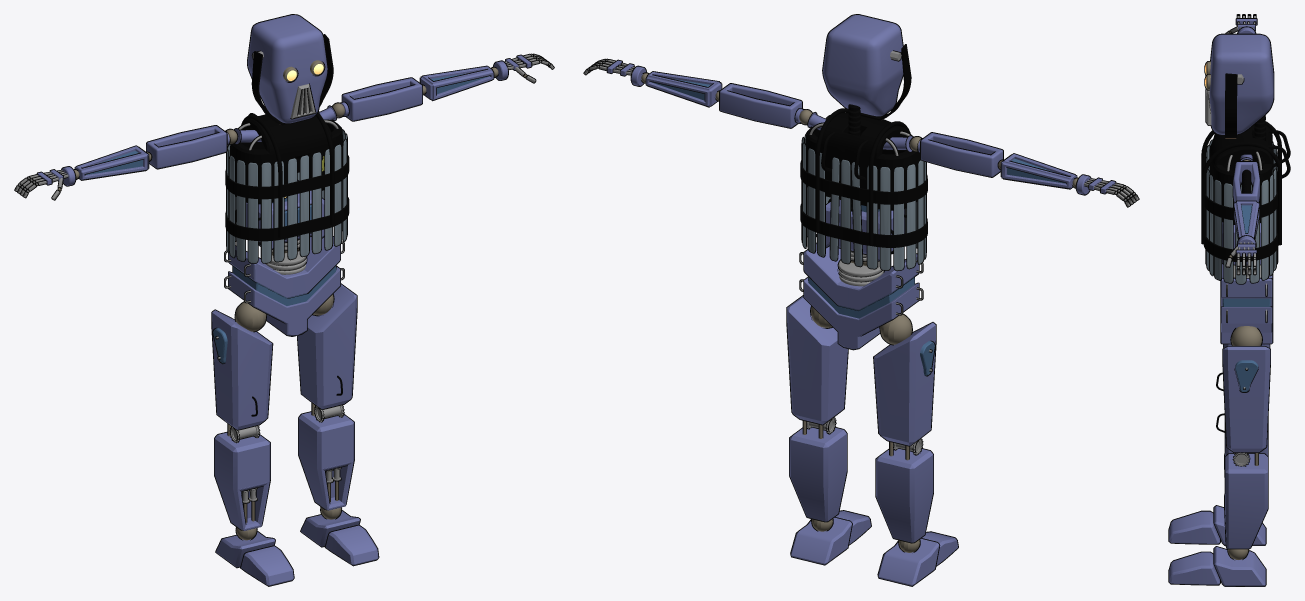
The model's file is Robot2L.fbx.
3 views of the same model, side by side, from view 1: azimuth 30°, elevation 25°; view 2: azimuth 150°, elevation 25°; view 3: azimuth 270°, elevation 25° (orthographic). The views are drawn at different scales.
Parts seen in each view (by area): view 1: Circle; view 2: Circle; view 3: Circle.
Boxes of the visible parts, box(x1,y1,x2,y2) form: Circle: box(14, 14, 554, 586); Circle: box(583, 14, 1139, 586); Circle: box(1168, 14, 1290, 586).
Size of the model in its own units: 428 by 402 by 86.3.
